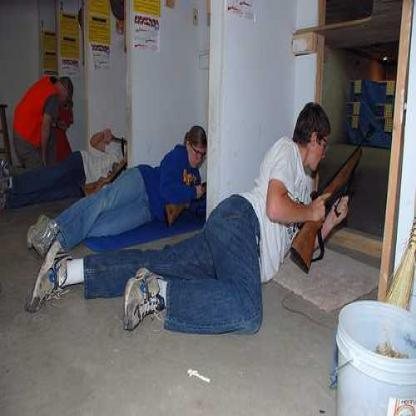rifle: (287, 110, 383, 280), (160, 182, 208, 234)
